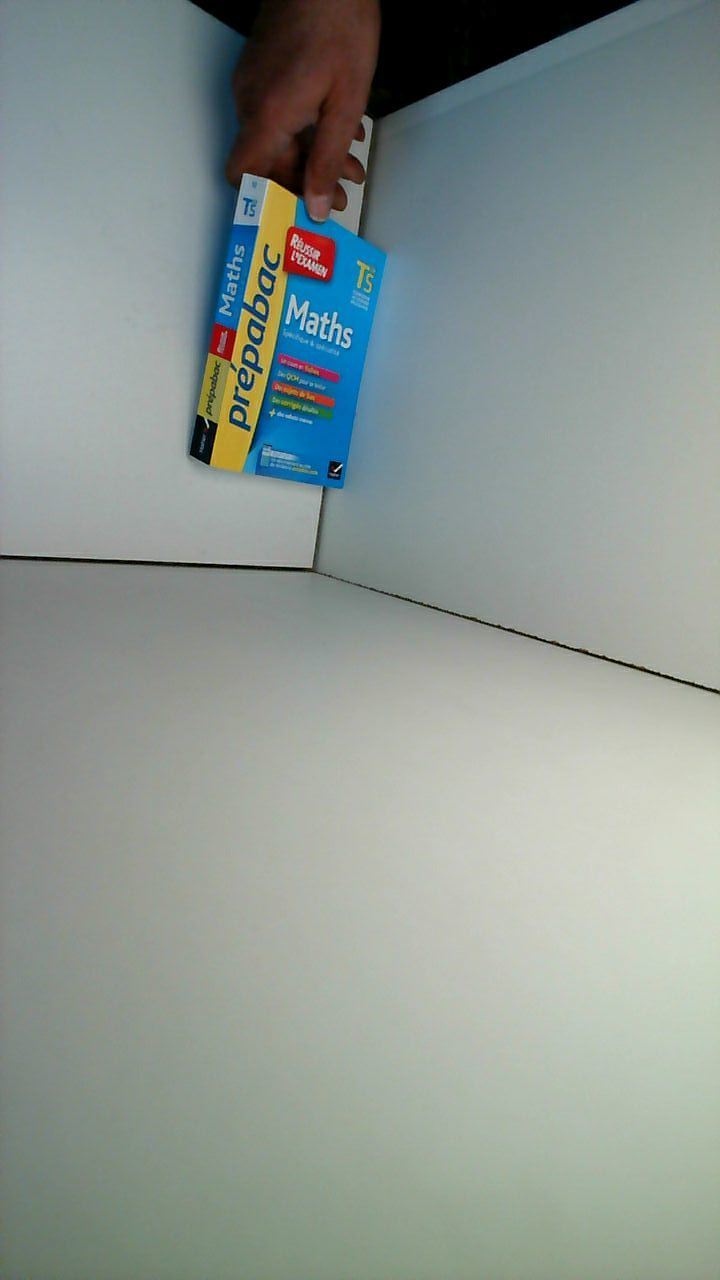book: (172, 159, 401, 507)
